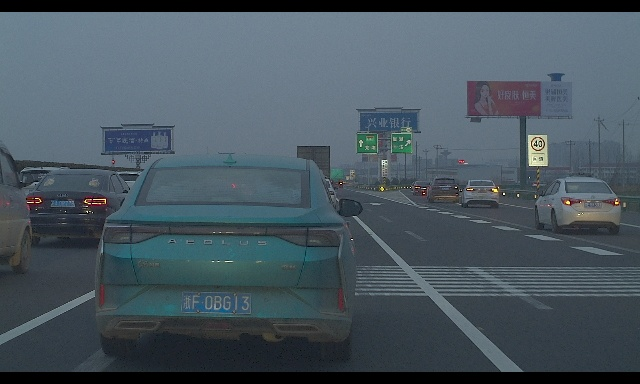car: (94, 154, 363, 363), (25, 169, 135, 246), (533, 178, 622, 234), (0, 140, 35, 274), (18, 166, 80, 211), (460, 179, 499, 208), (113, 170, 147, 203), (427, 175, 460, 204), (305, 179, 336, 208), (412, 181, 433, 196), (411, 182, 424, 191)
truck: (297, 145, 330, 188), (328, 168, 344, 188)
